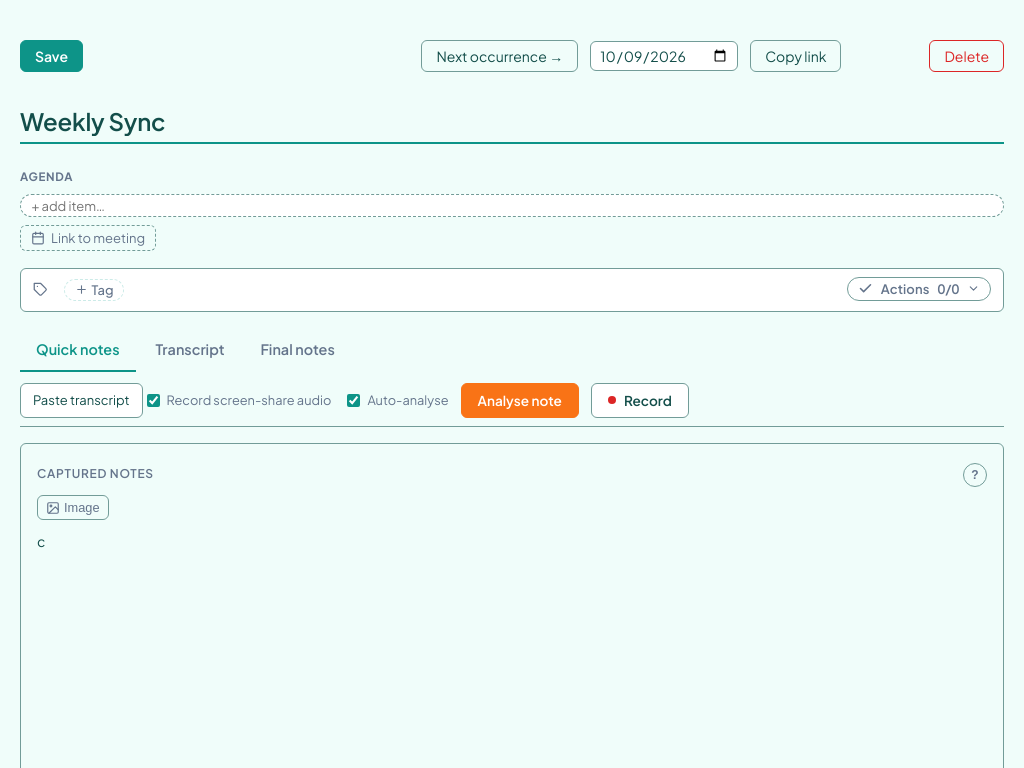
NoteView › next occurrence control › shows an inline message and does not navigate when there is no upcoming occurrence
What coordinates should you click on to do the following:
click the button with test id "next-occurrence-button"
I would click on:
 (500, 56)
Its box is [421, 40, 578, 72].
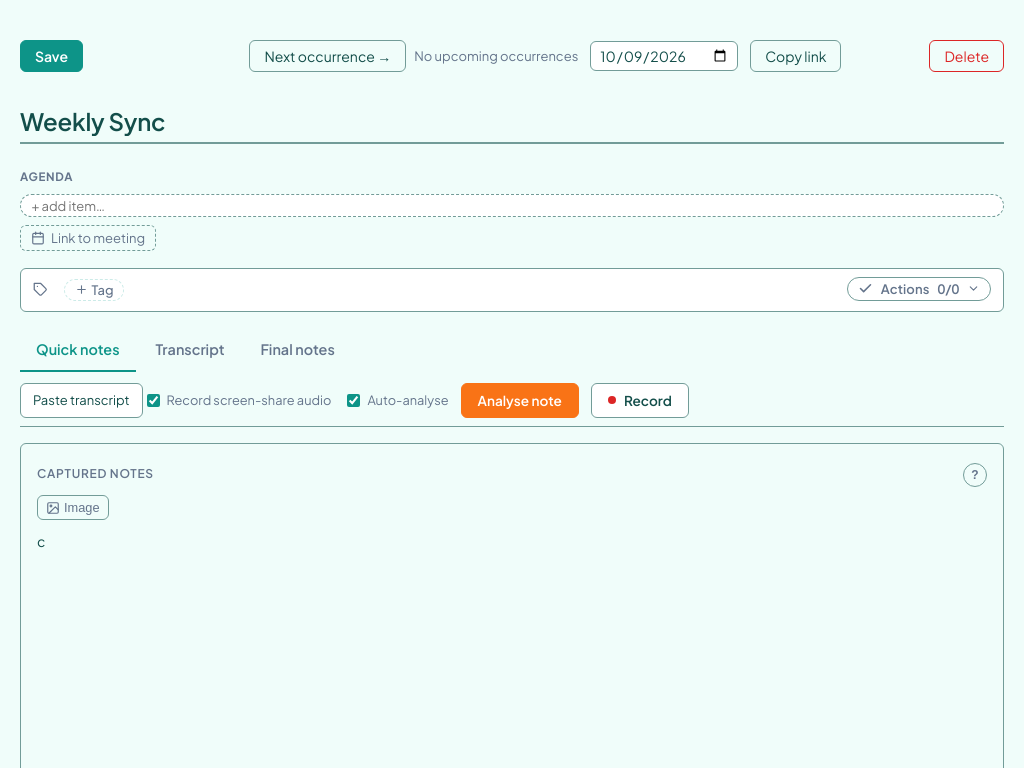
Expected: the message "No upcoming occurrences" is shown, [414, 46, 578, 66]
